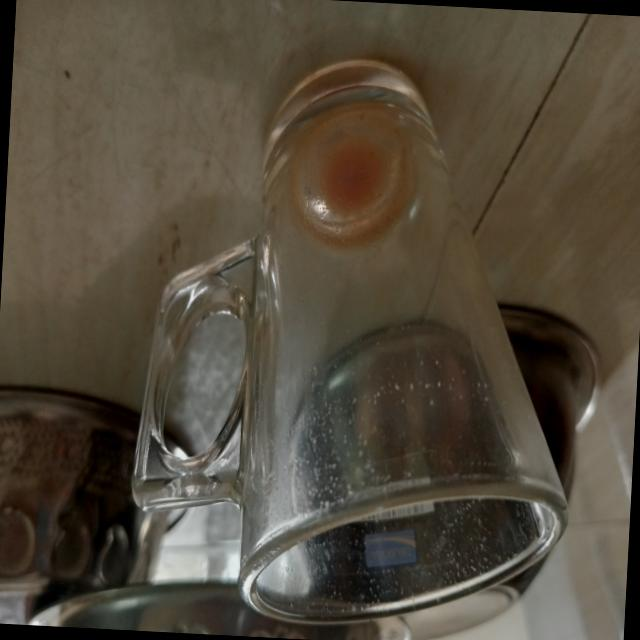glass-VX4N: (123, 58, 588, 640)
